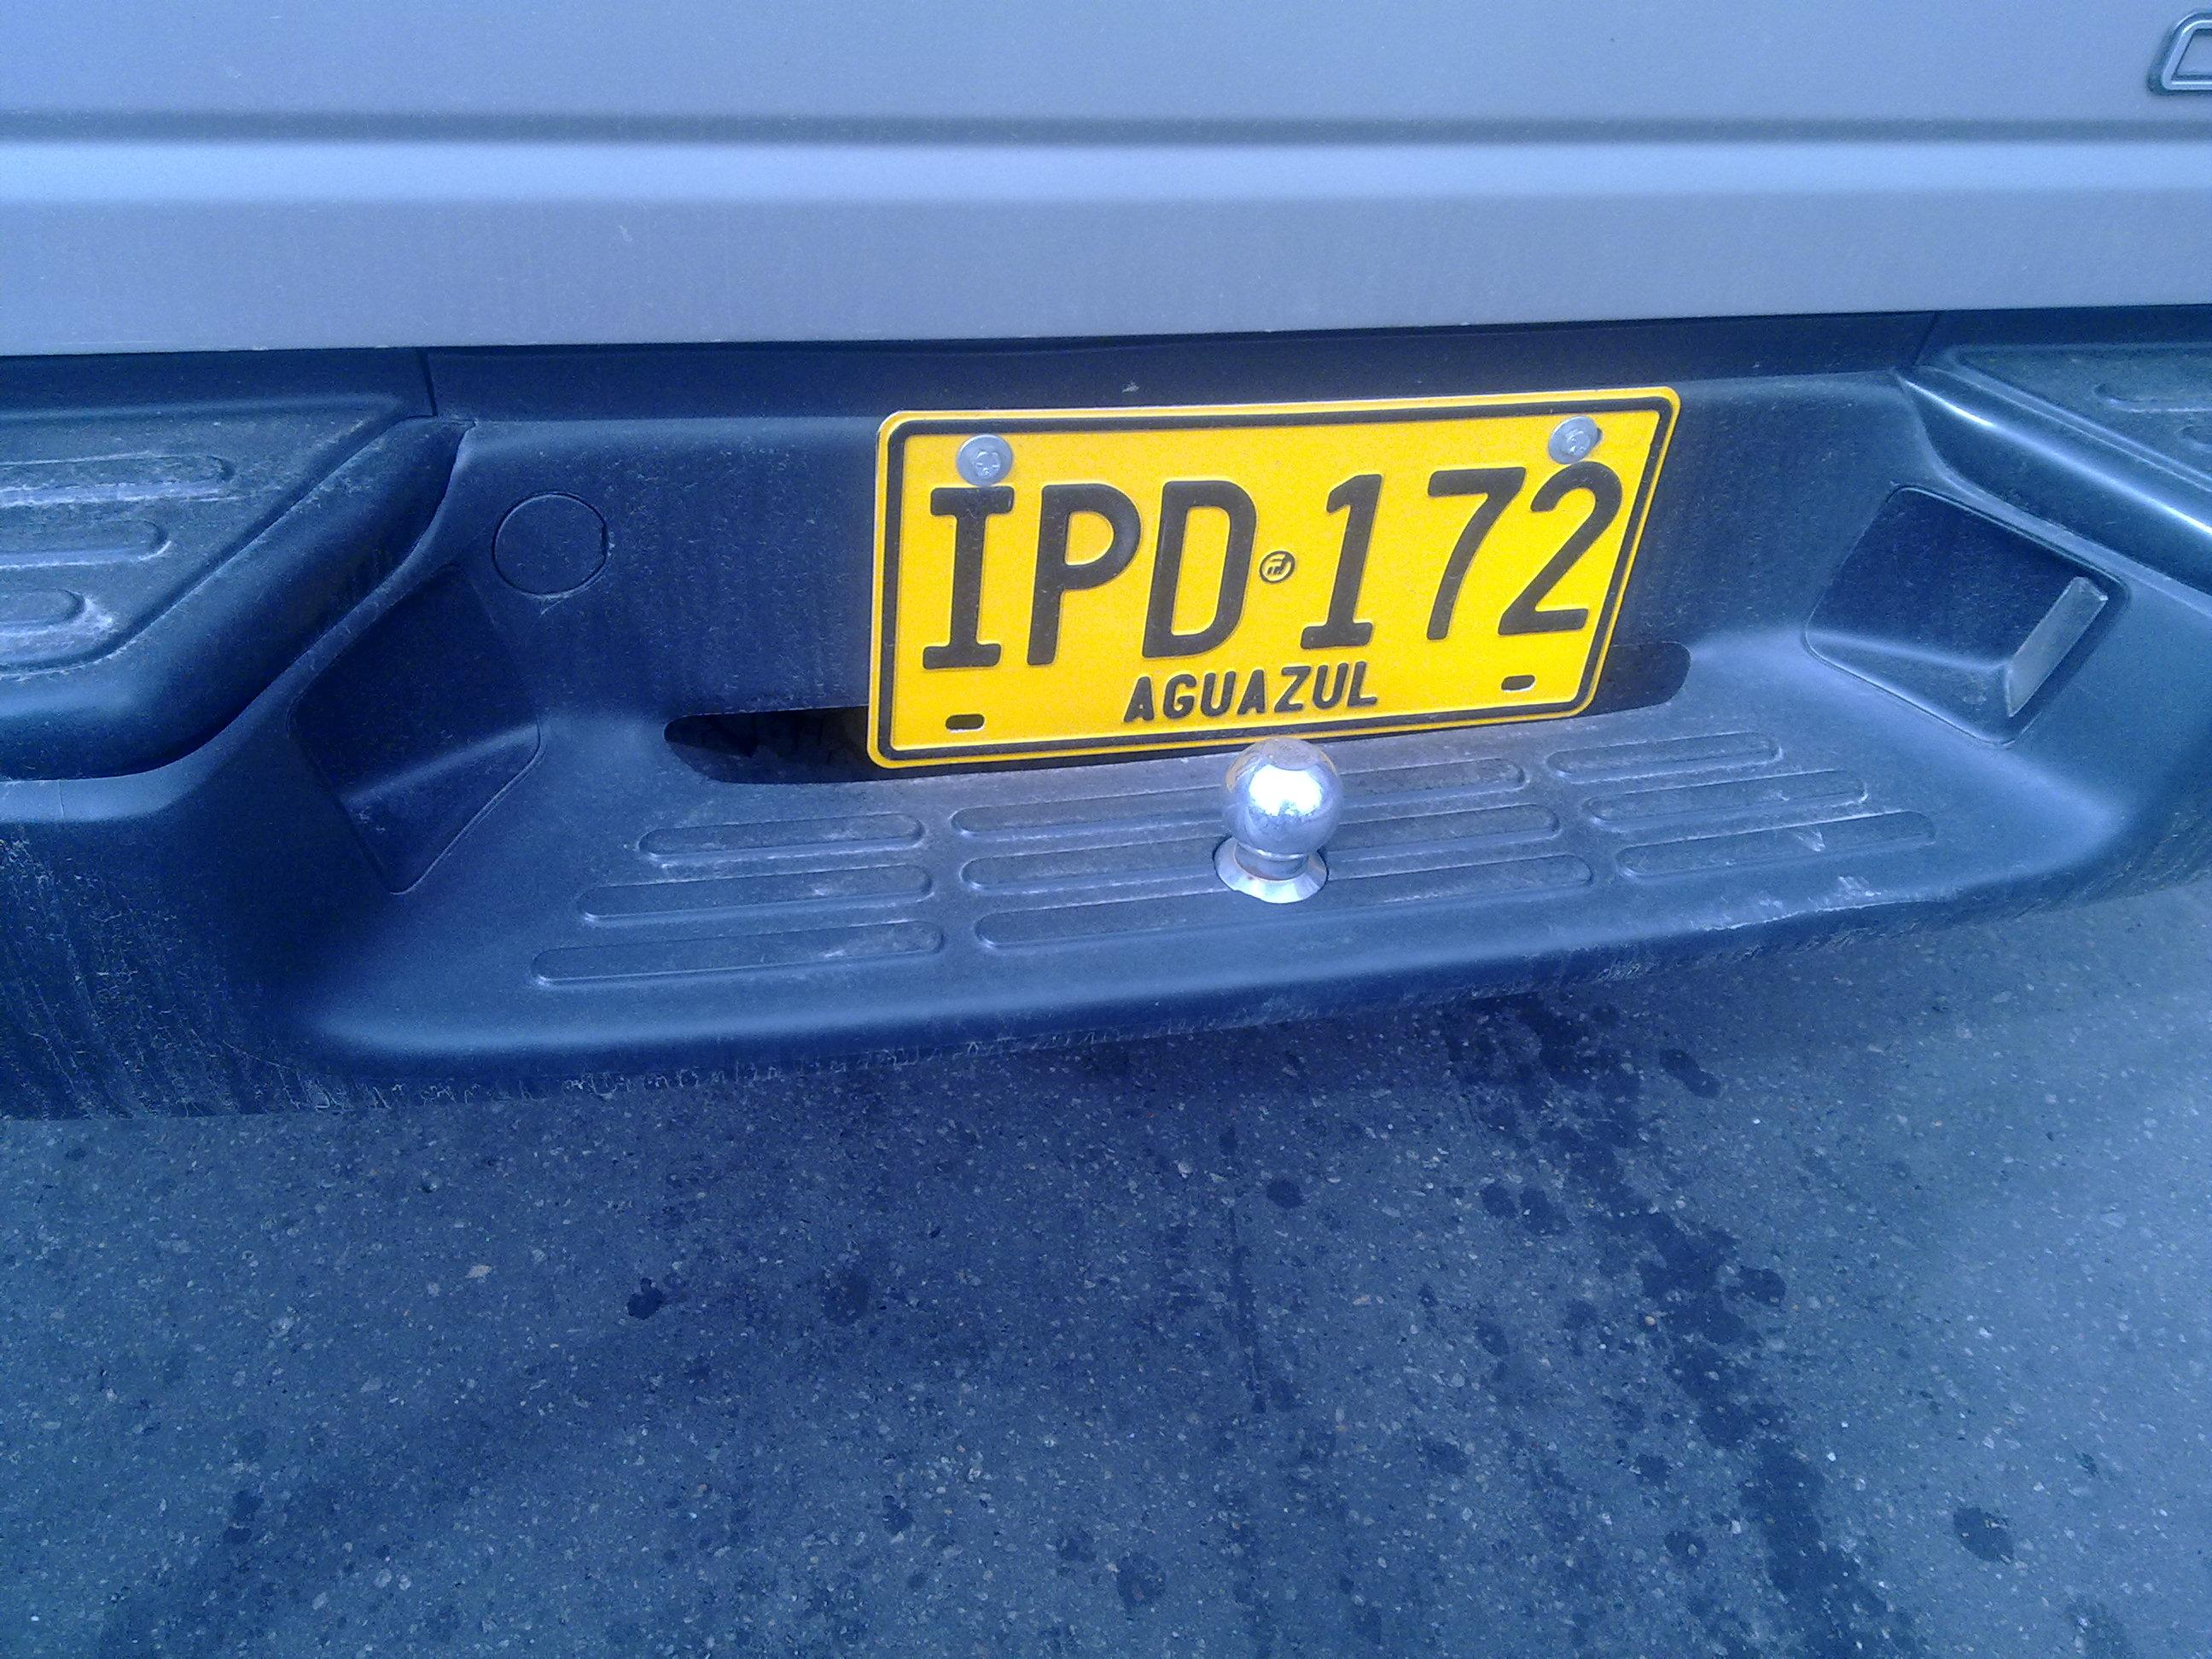placas: (857, 368, 1685, 786)
